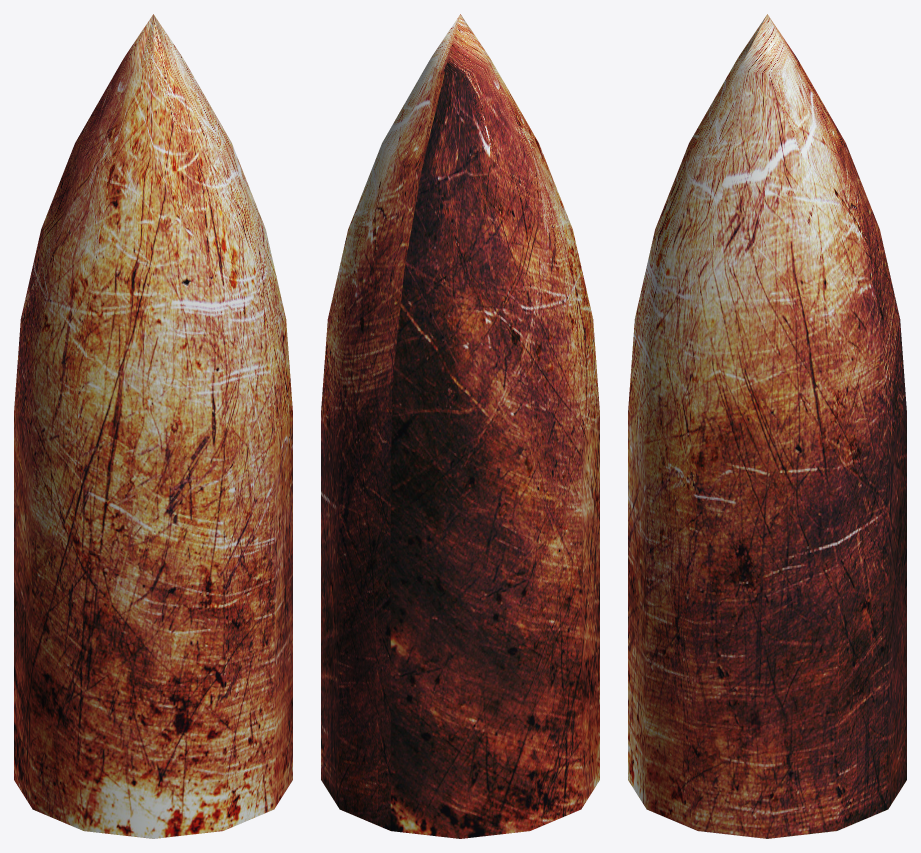
Rendered from turret_bullet.FBX.
3 renders of one model, left to right at view 1: azimuth 30°, elevation 25°; view 2: azimuth 150°, elevation 25°; view 3: azimuth 270°, elevation 25°, orthographic.
Visible parts, largest first — view 1: turret_bullet; view 2: turret_bullet; view 3: turret_bullet.
Boxes of the visible parts, x1,y1,x2,y2 form: turret_bullet: [14, 14, 292, 838]; turret_bullet: [321, 14, 599, 838]; turret_bullet: [628, 14, 906, 838].
Bounding box in the file's own units: 200 × 606 × 200.
